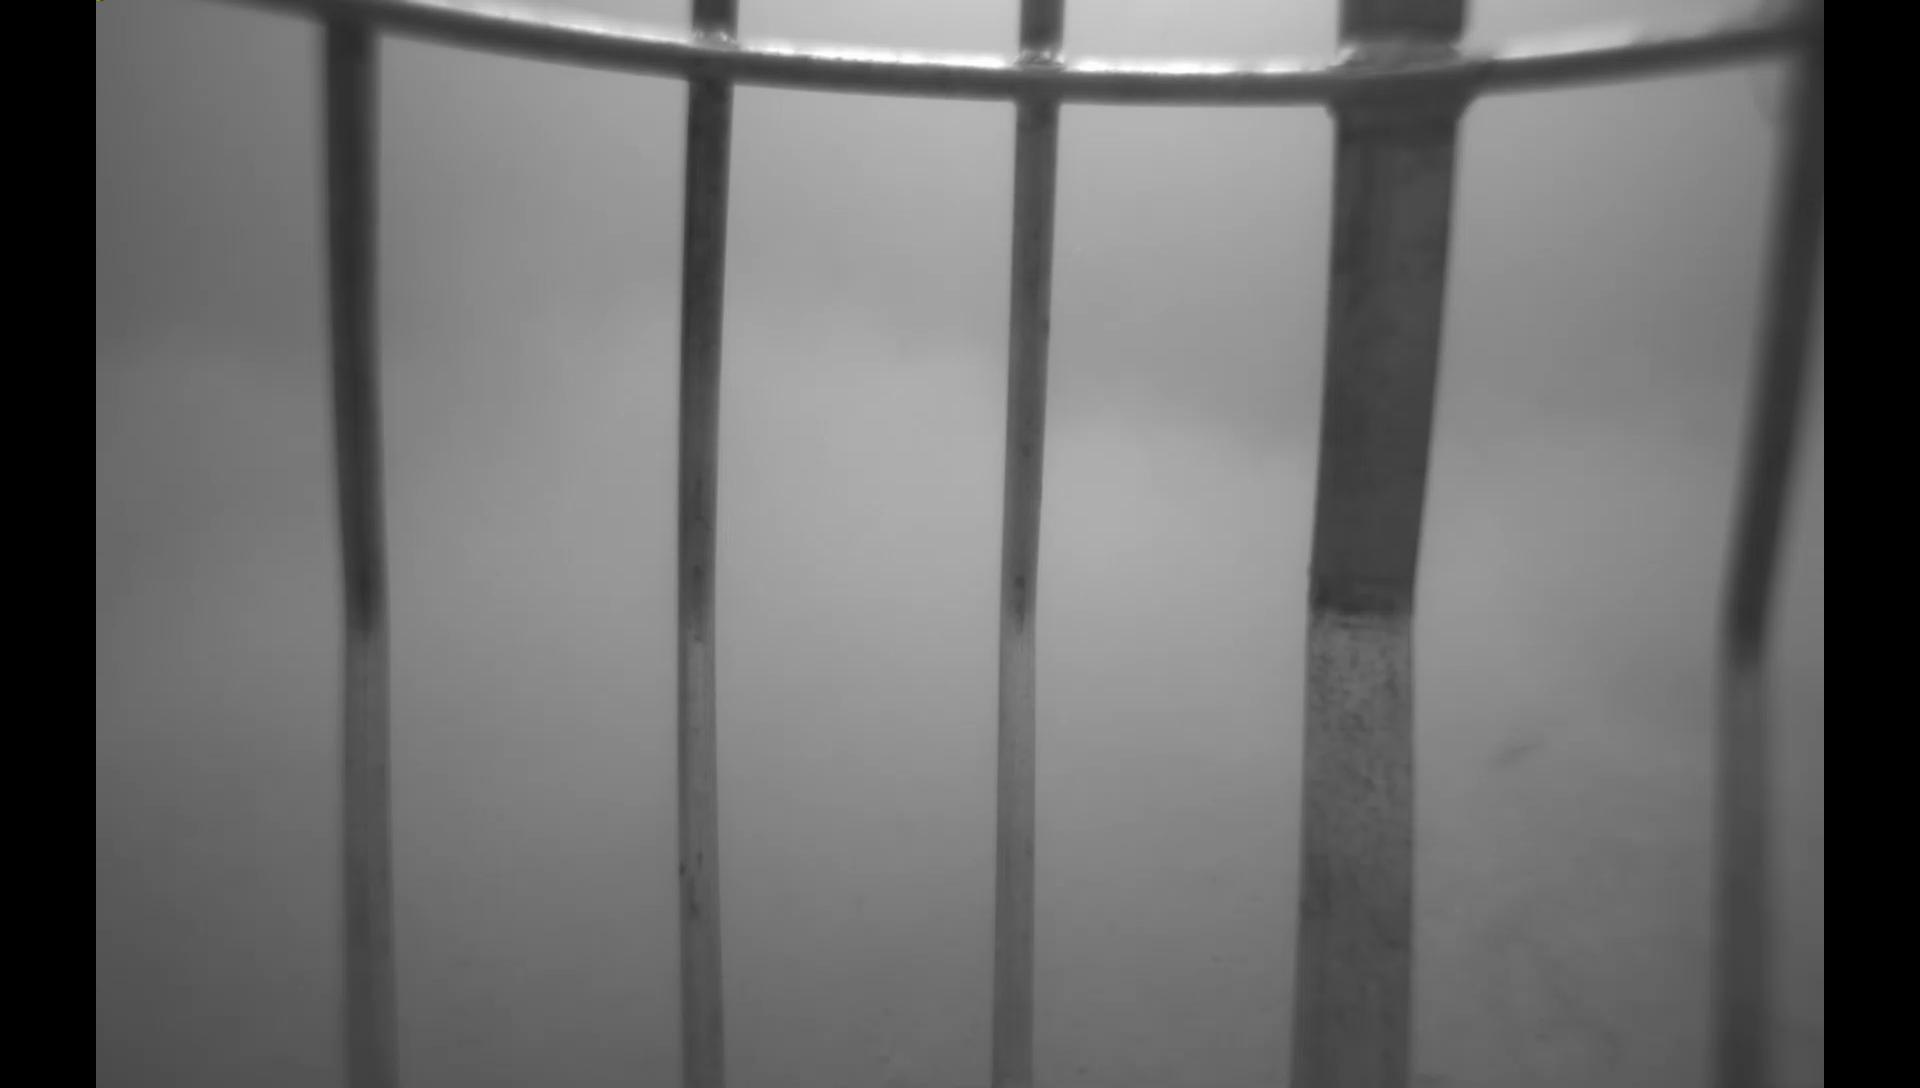OPHICHTHUSPUNCTICEPS-143150402: (1477, 728, 1557, 775)
